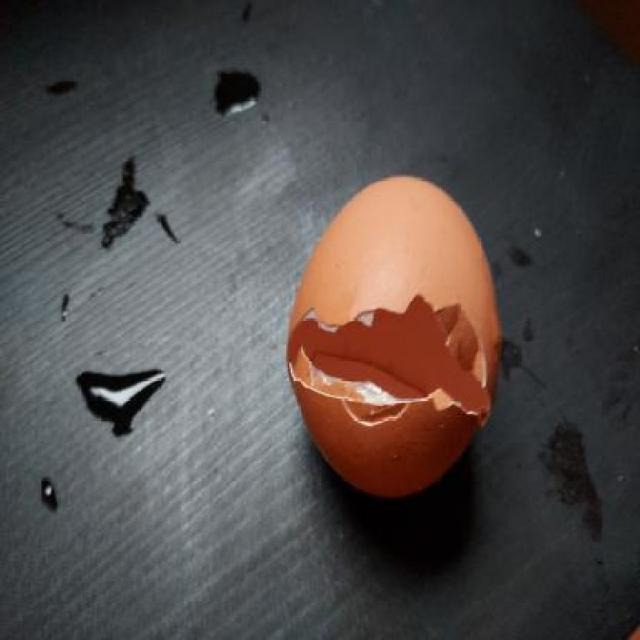biodegradable: (287, 173, 502, 499)
